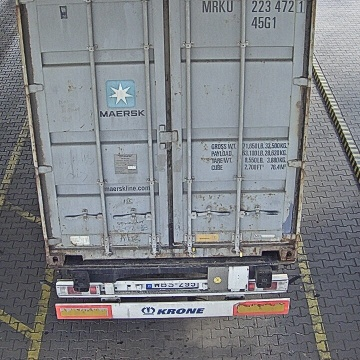serial_id: (202, 0, 306, 12)
